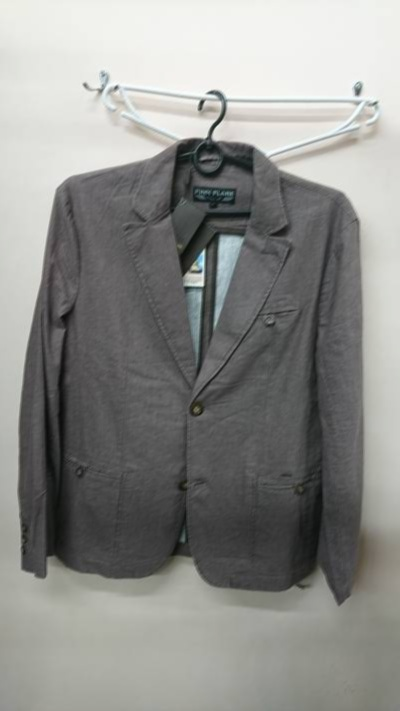Blazer: (20, 112, 386, 614)
